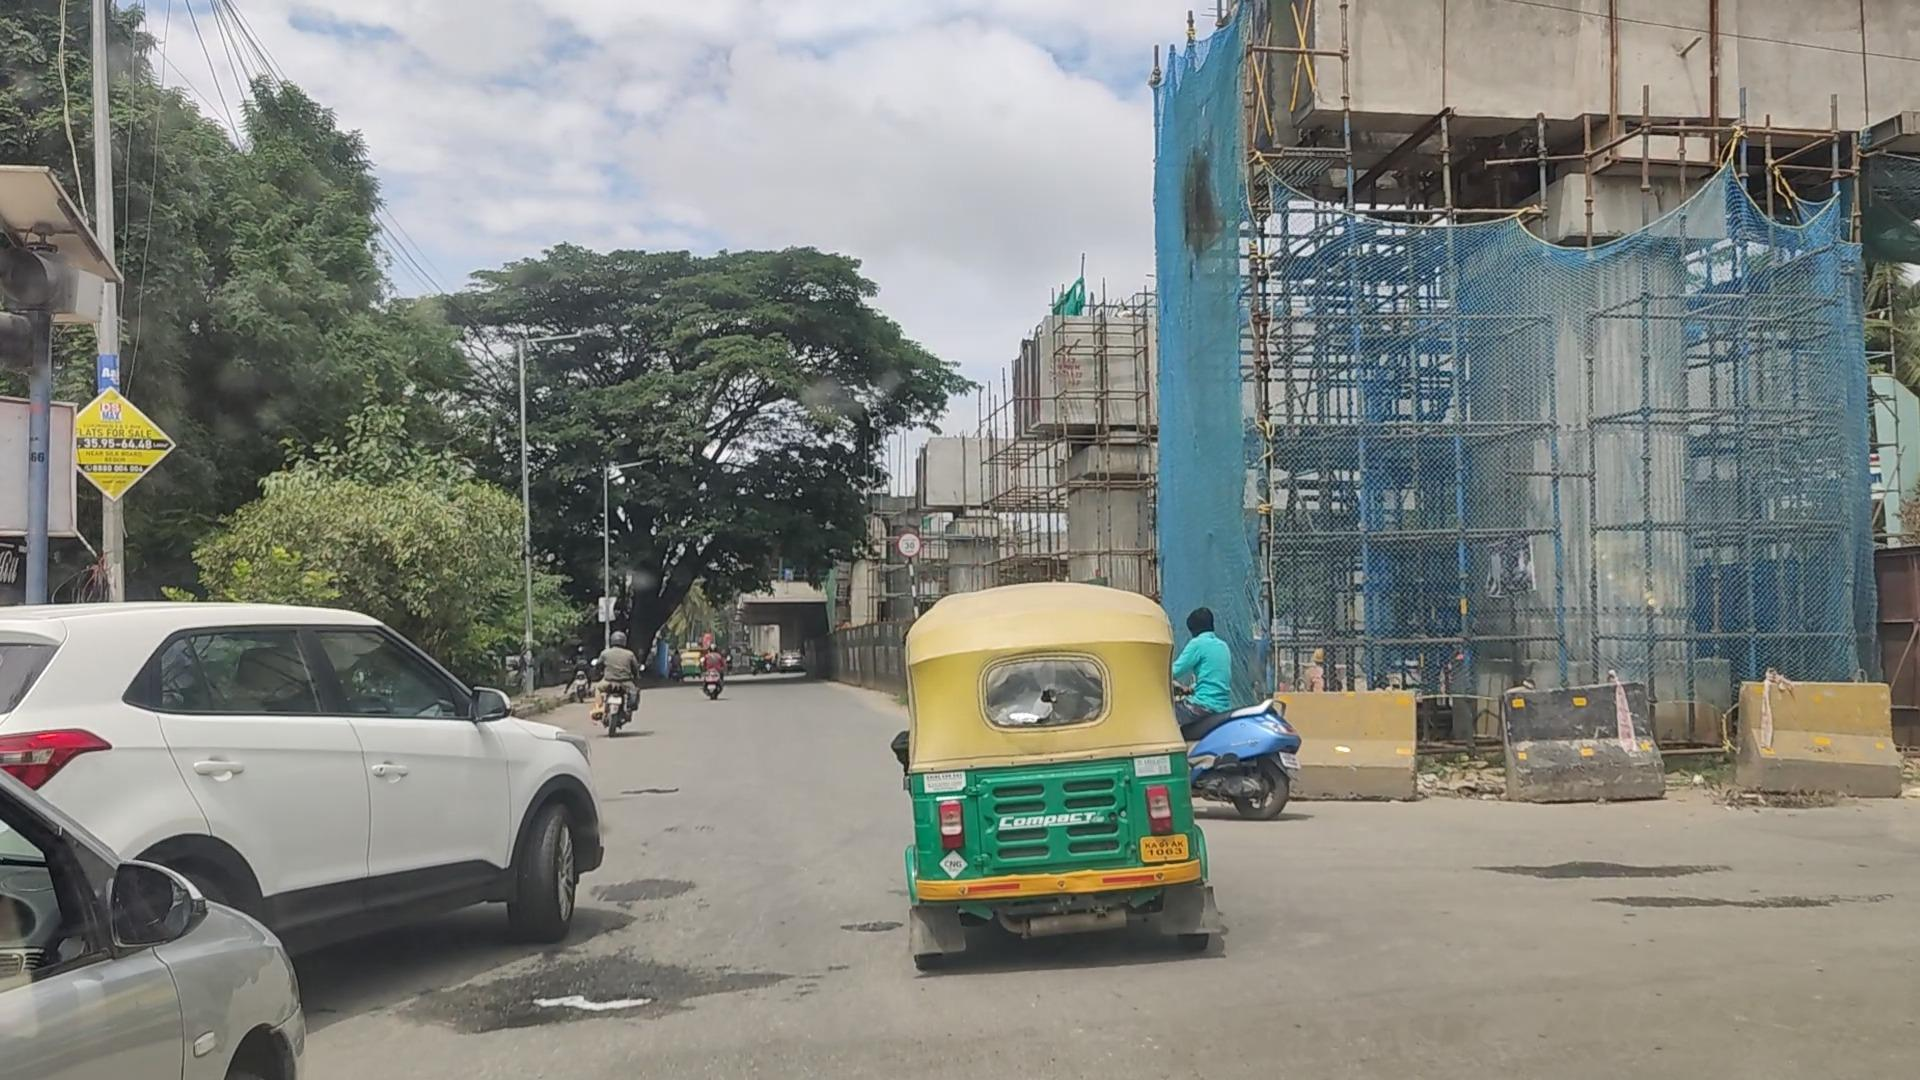LMV: (0, 615, 571, 927), (890, 575, 1215, 956), (1164, 608, 1302, 837)
RoadDamages: (512, 948, 666, 1034)
